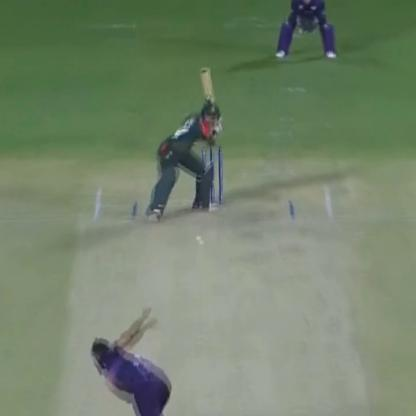ball: (190, 232, 202, 240), (196, 239, 208, 247)
bat: (190, 61, 228, 121)
pitch: (36, 172, 381, 416)
